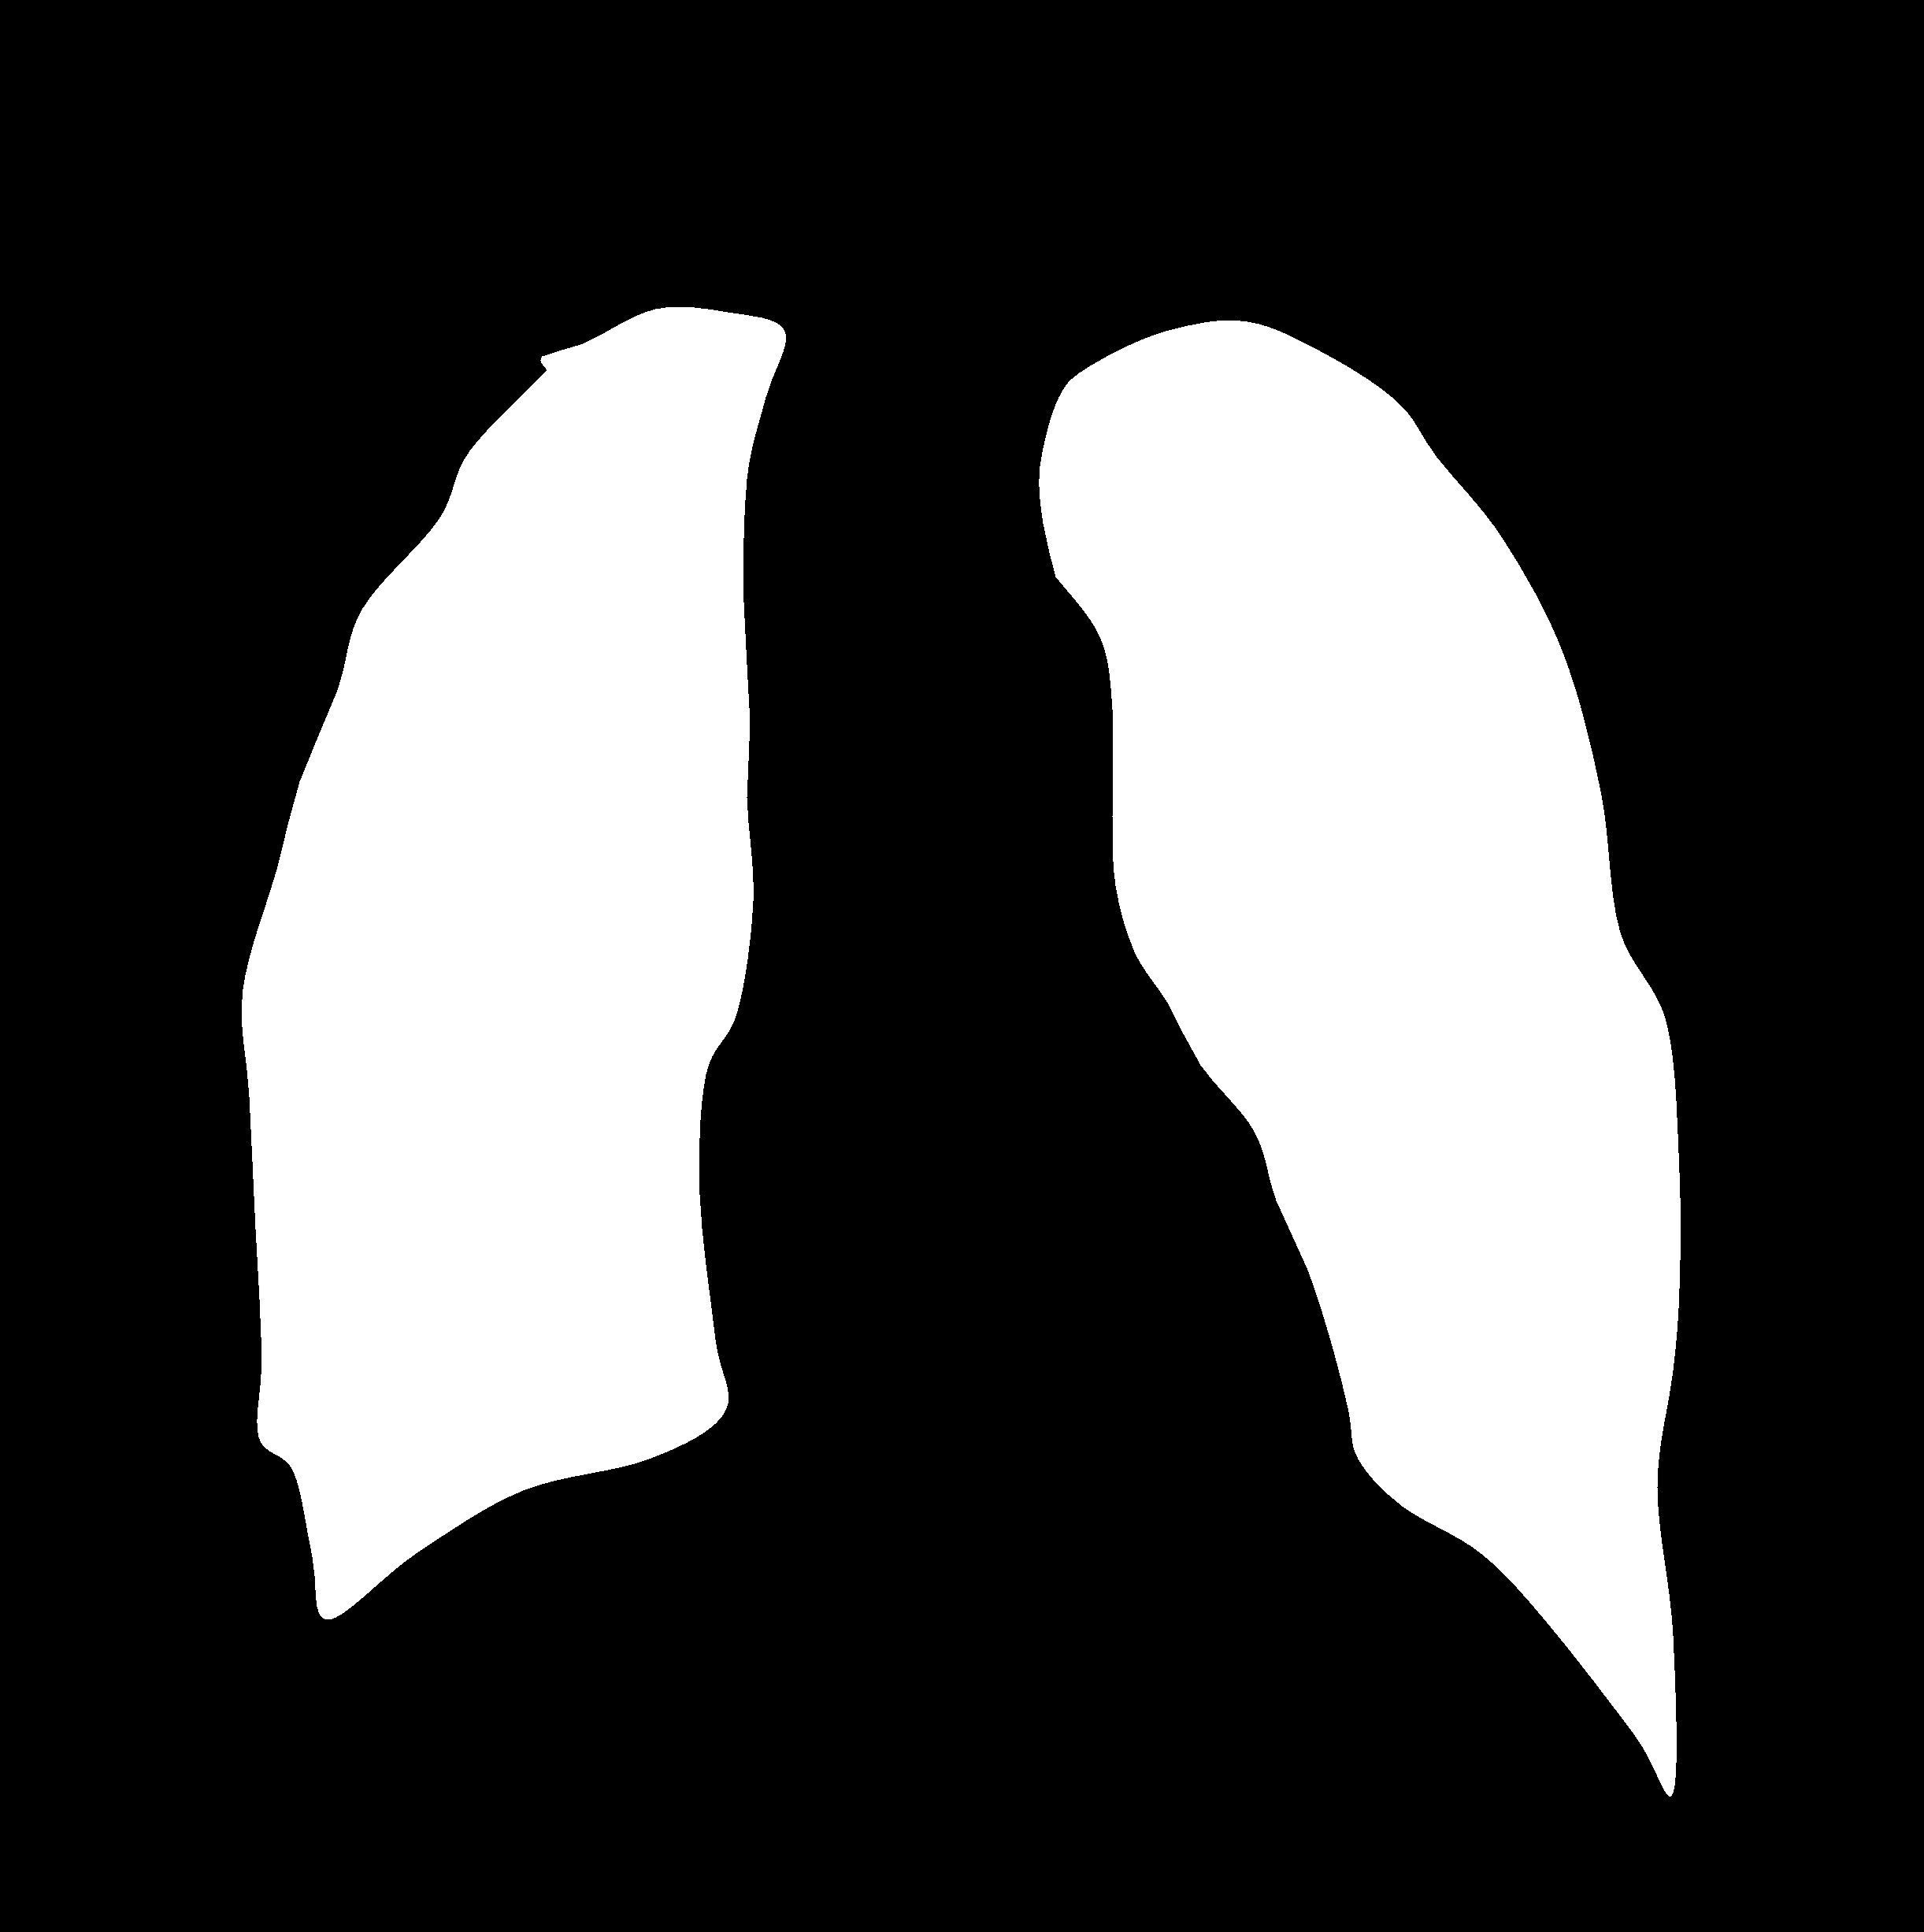heart: (691, 982, 1355, 1514)
left_lung: (241, 307, 786, 1618)
right_lung: (1040, 321, 1681, 1796)
